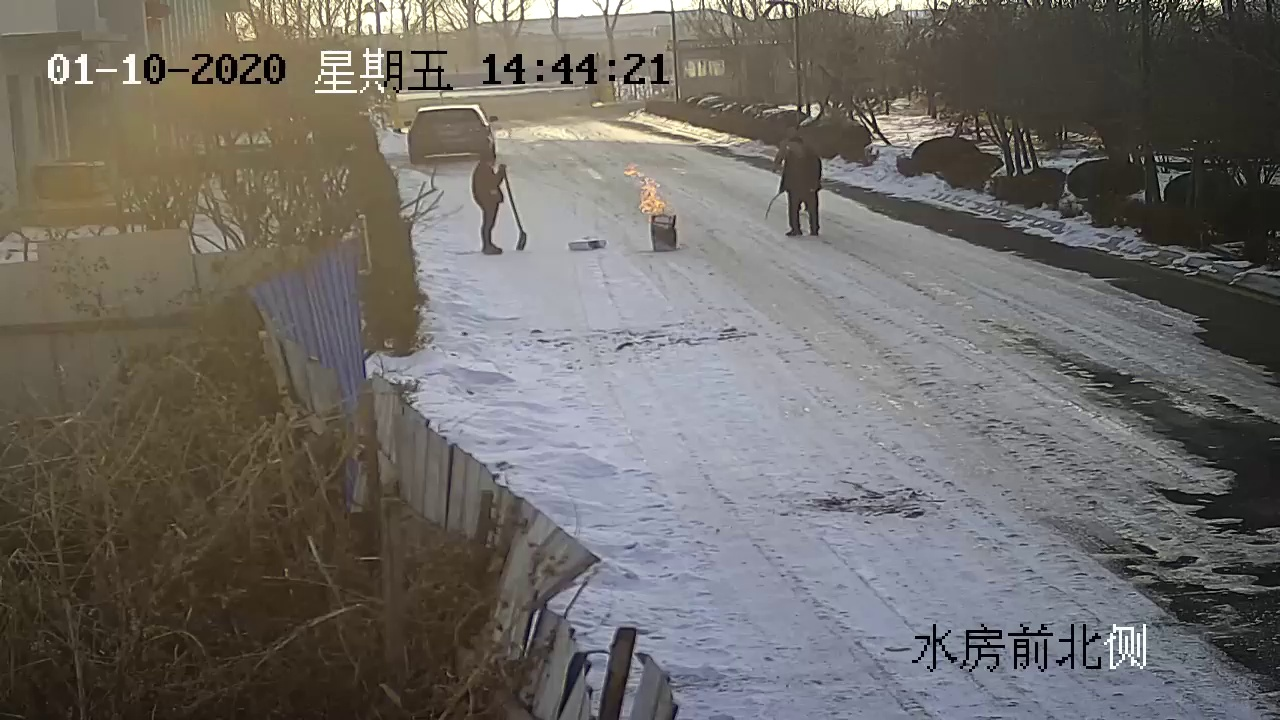fire: (628, 165, 668, 212)
